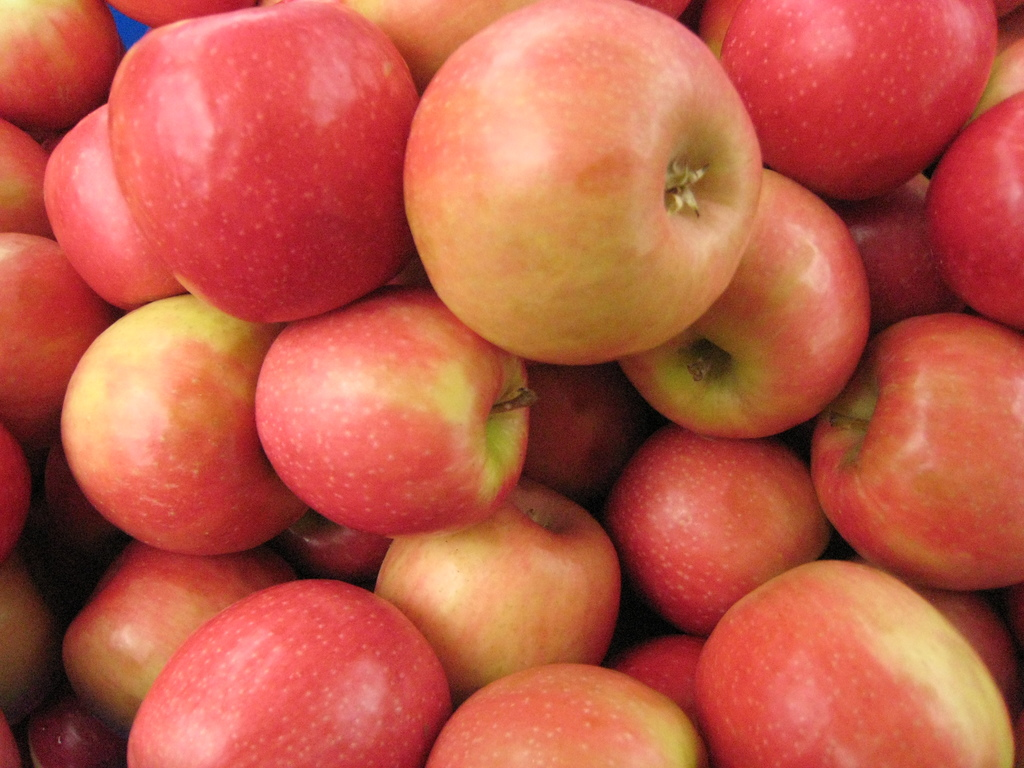Apple: (0, 0, 1023, 767), (94, 0, 424, 324)
